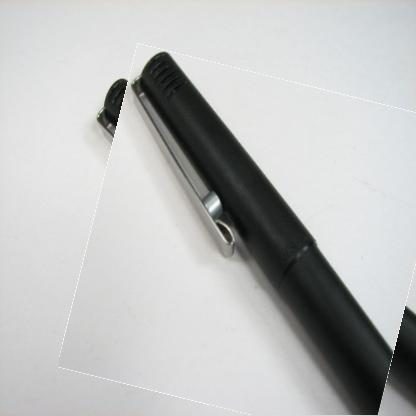Pen: (75, 59, 415, 416)
